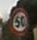limite 50: (9, 6, 29, 35)
